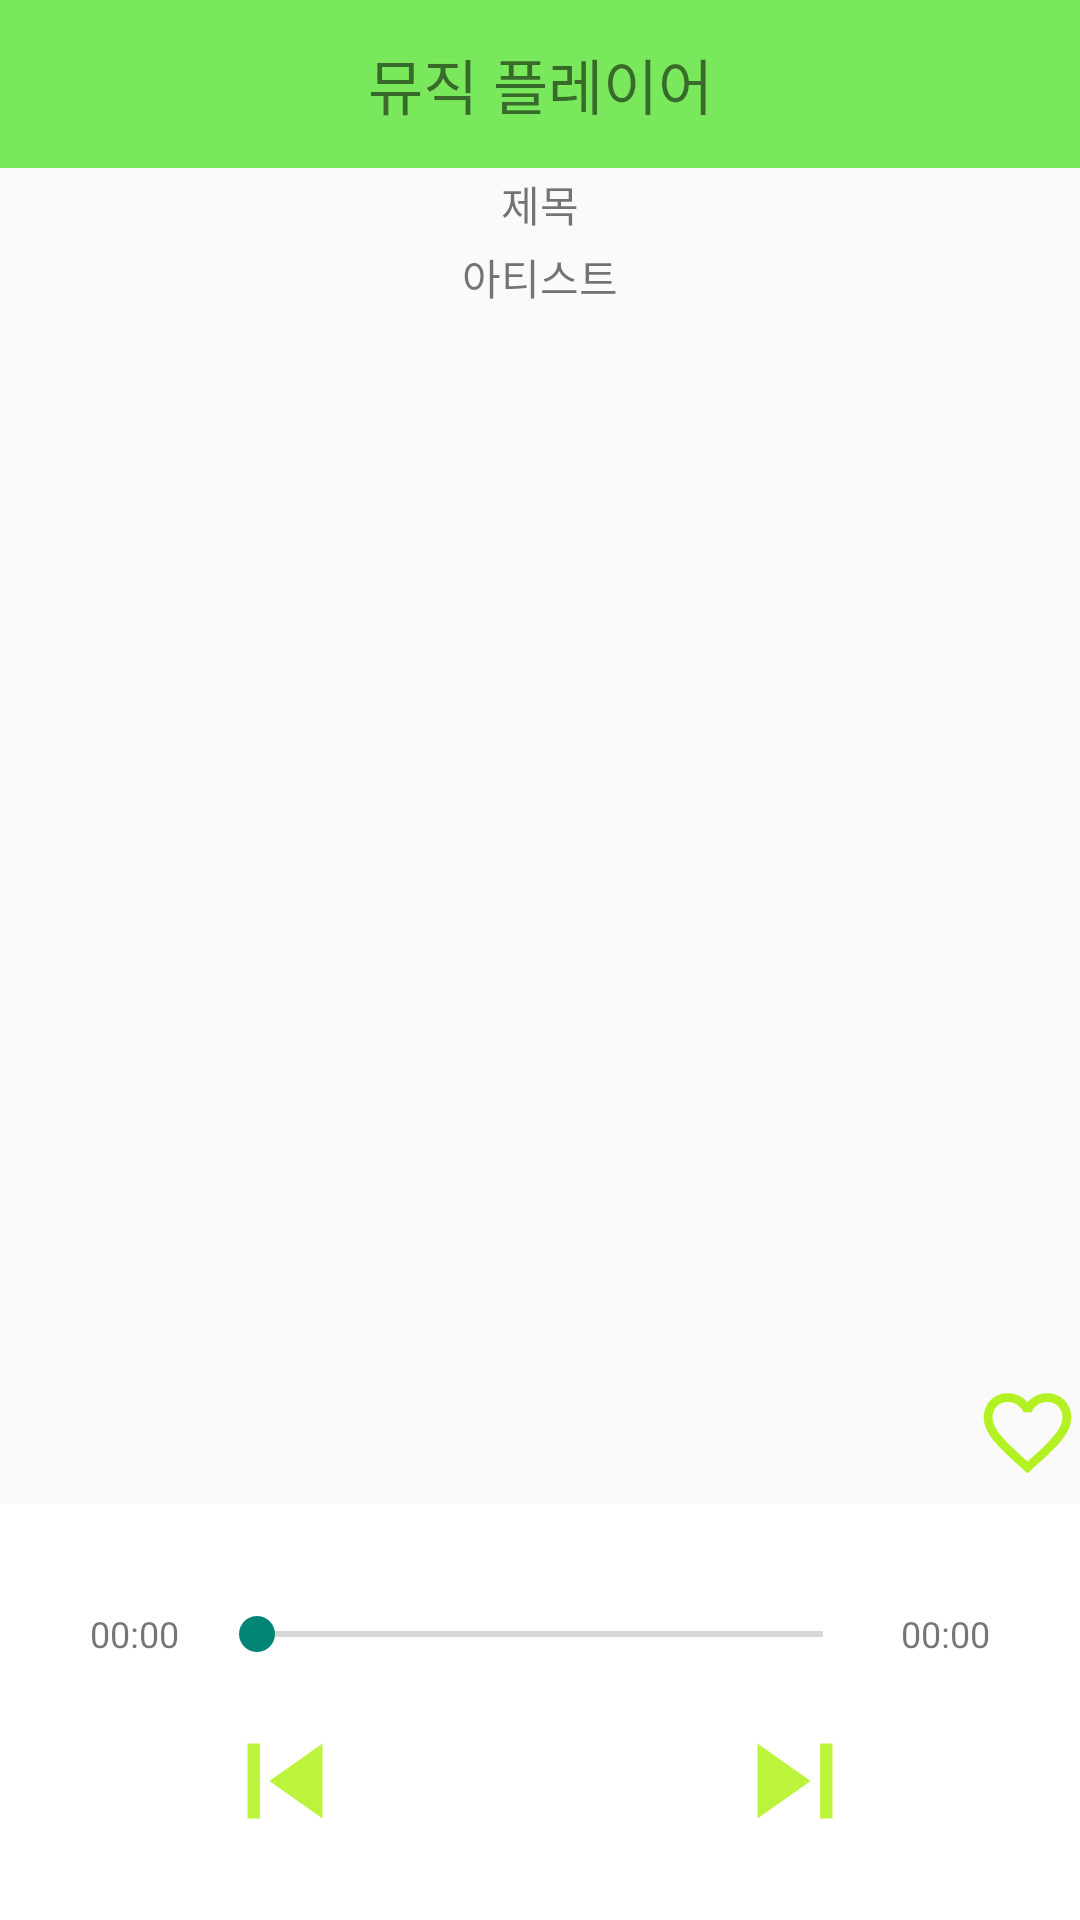

Point at icon controls on the screen. Image size 1080 × 1920, points as point (x, y).
like: point (1027, 1433)
next: point (795, 1781)
previous: point (285, 1781)
